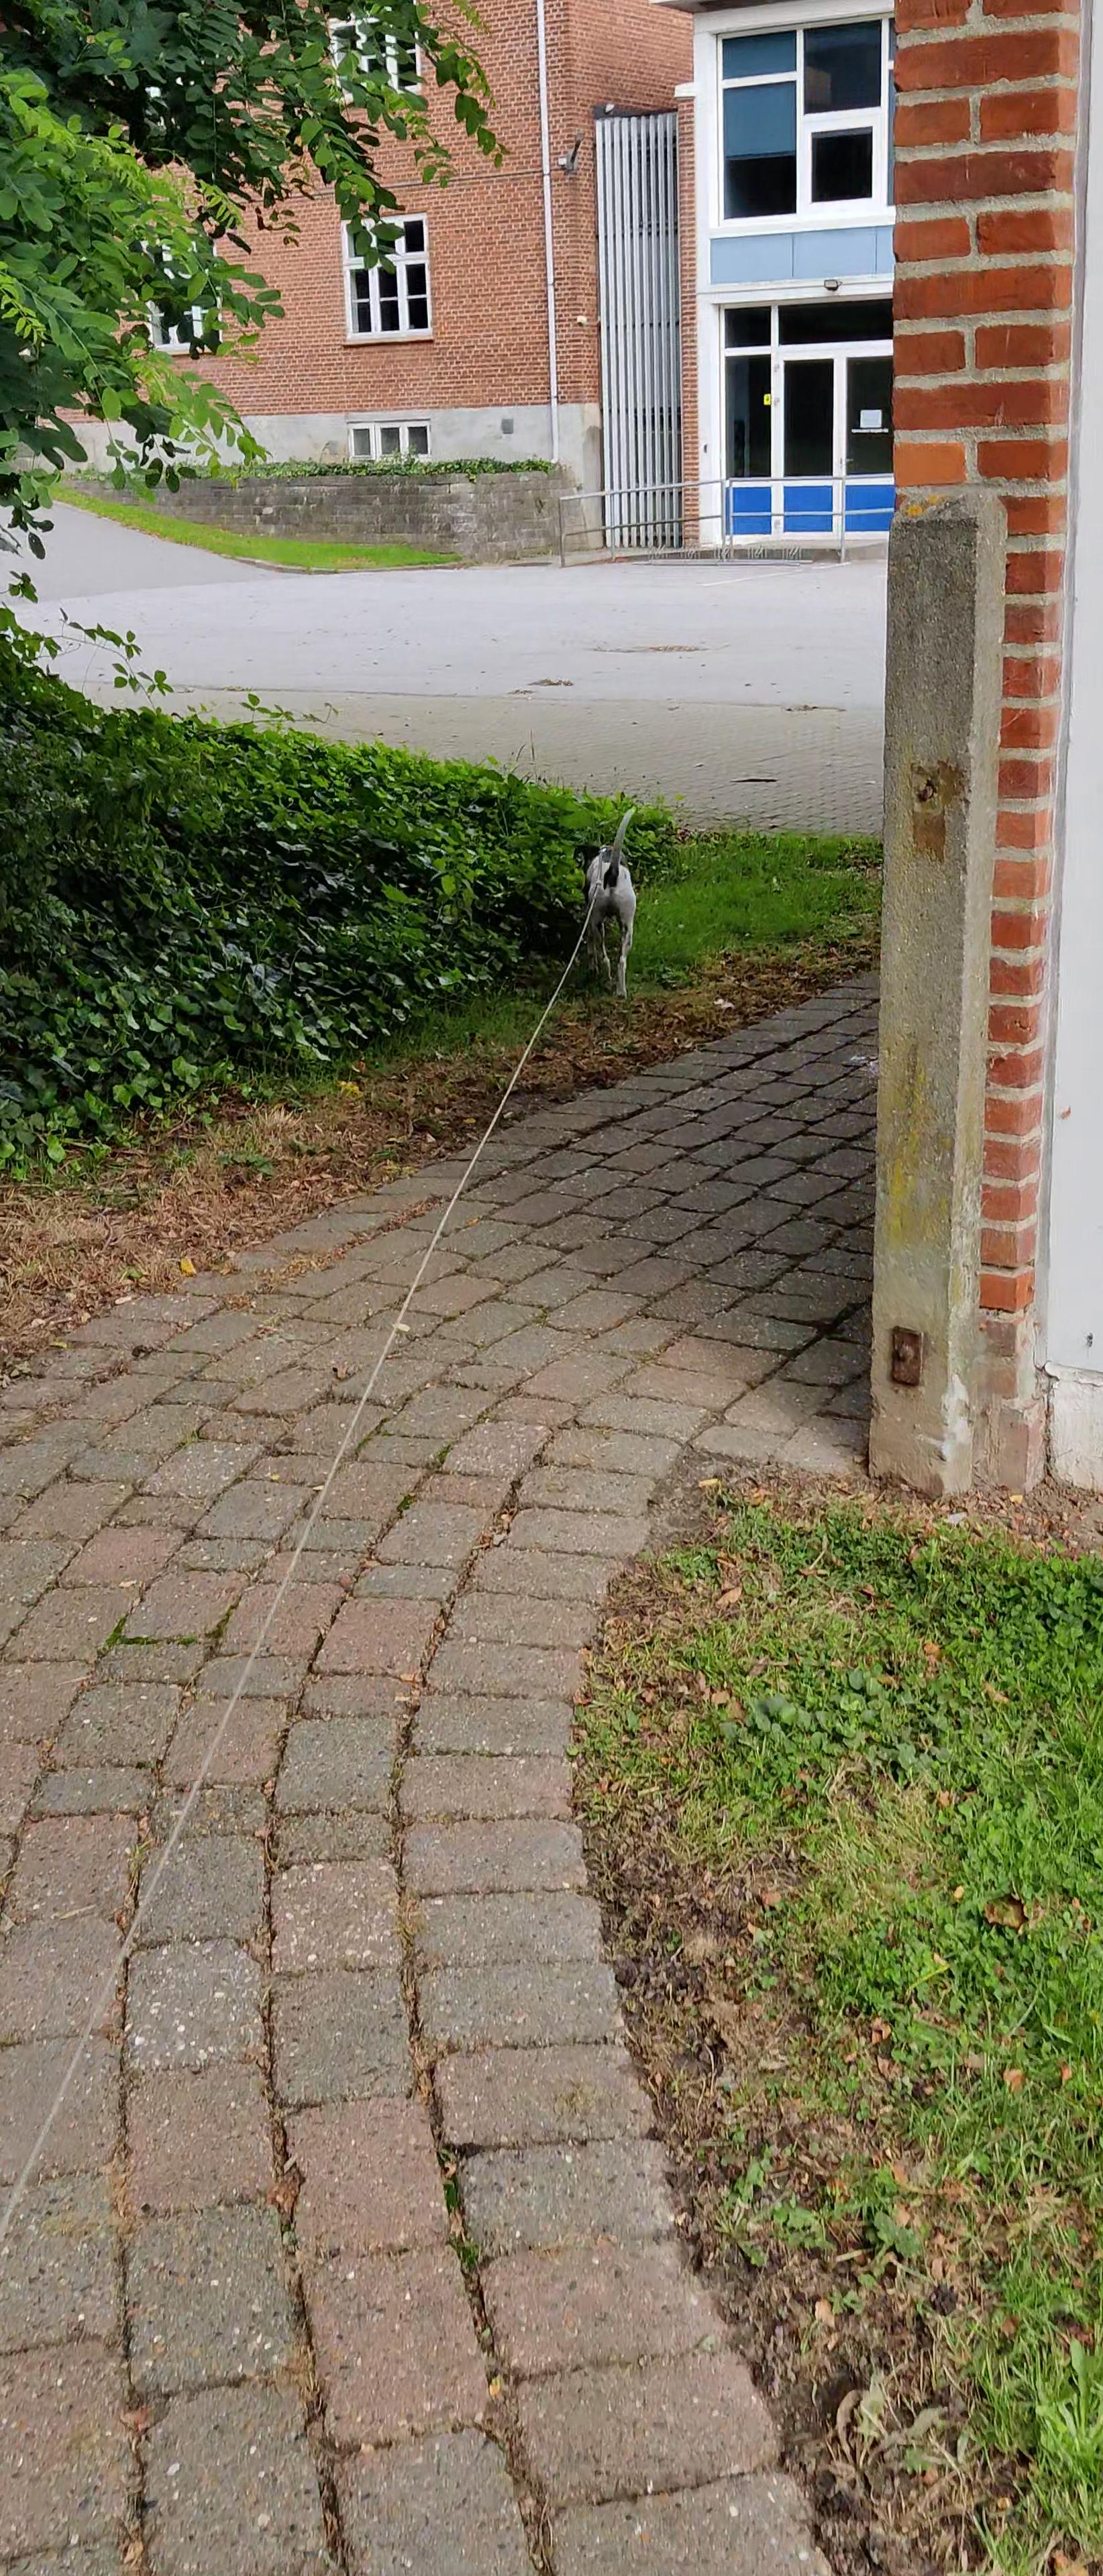Dog: (567, 793, 659, 1005)
